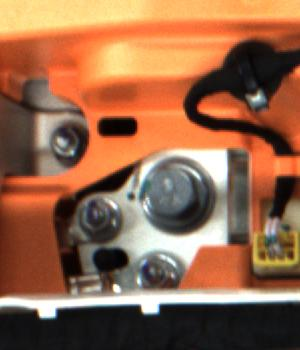nut_b: (146, 156, 222, 238)
screw_s: (45, 122, 95, 177), (82, 196, 123, 237), (143, 255, 185, 290)
